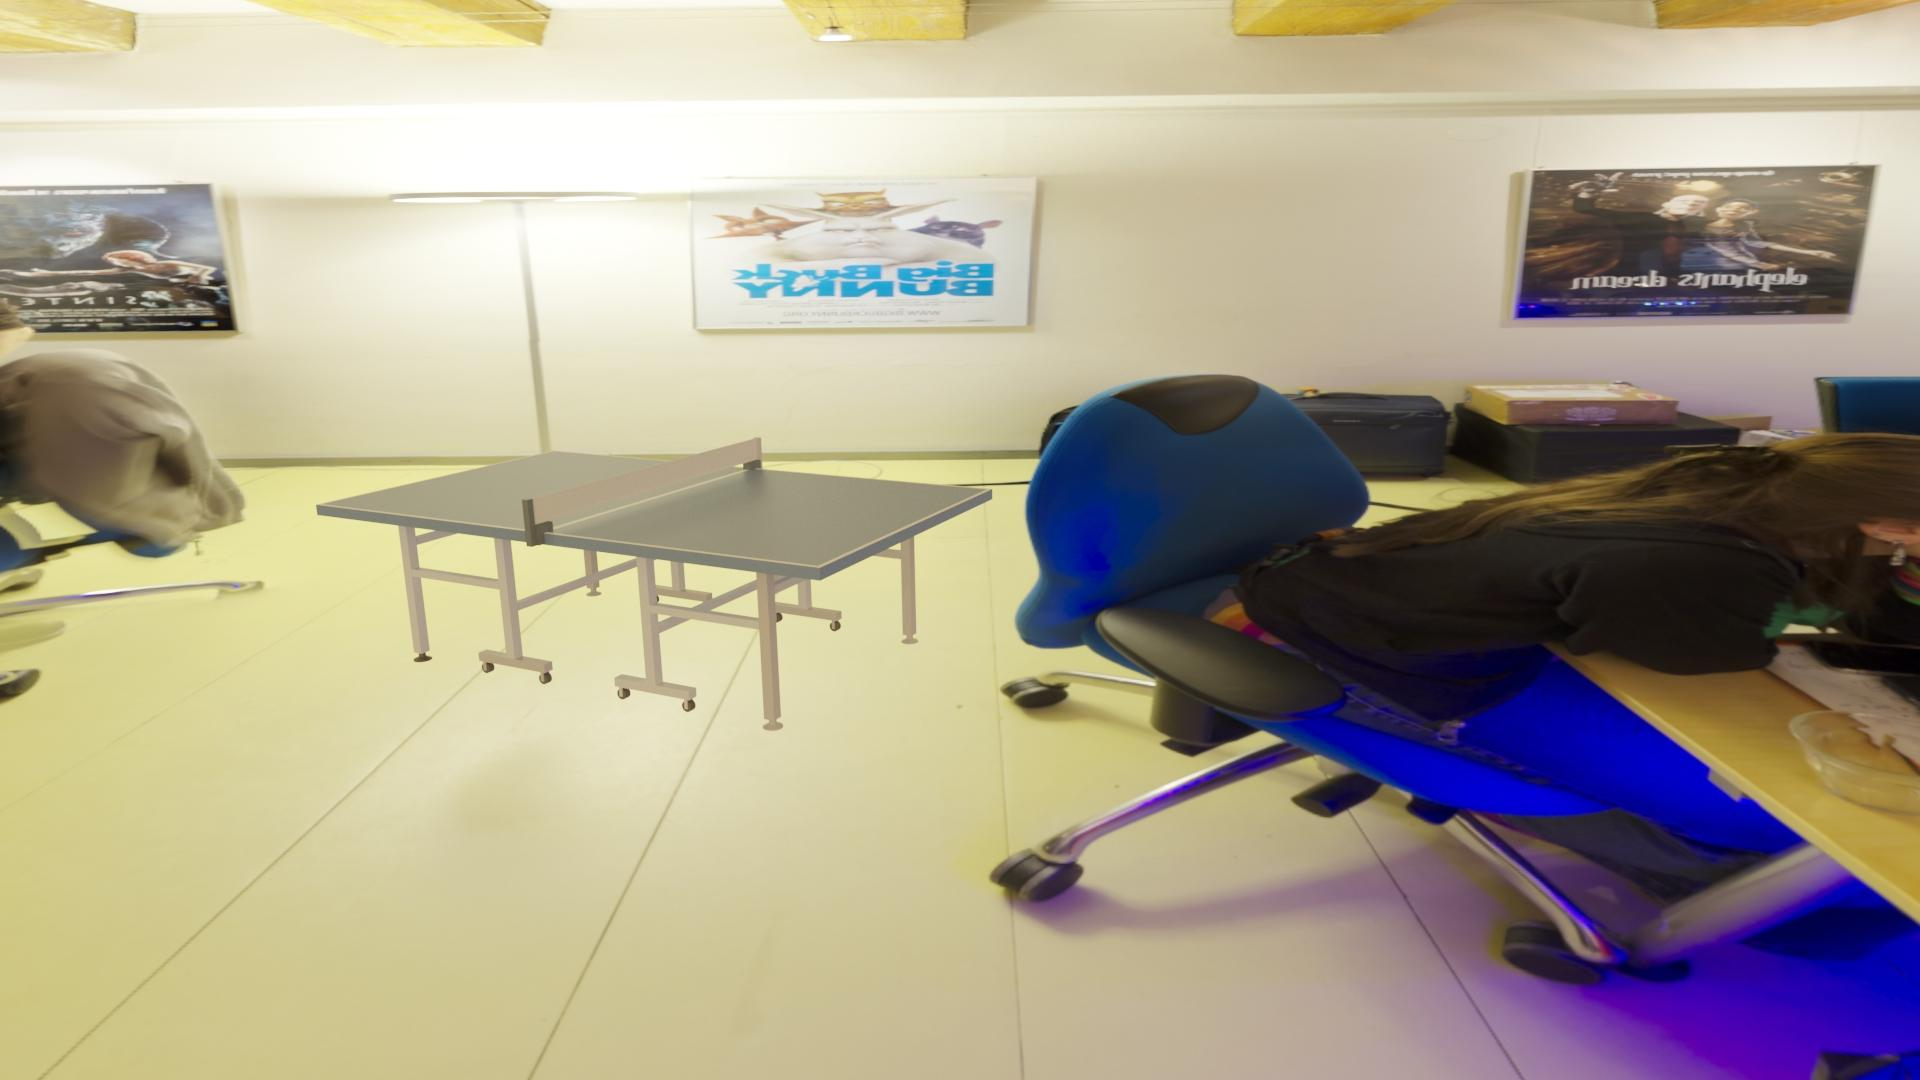table: (323, 451, 986, 566)
